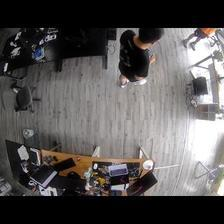normal: (119, 28, 166, 89)
